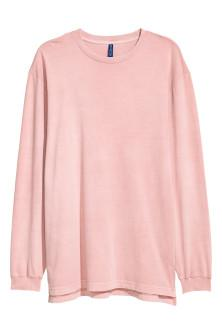teeshirt: (11, 31, 221, 318)
